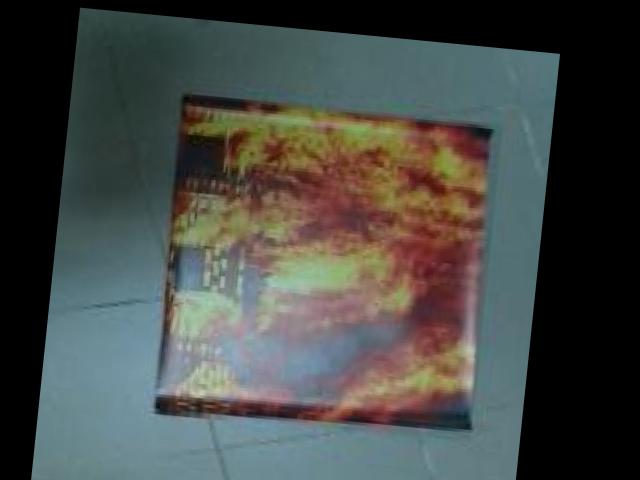fire-poster: (155, 83, 507, 436)
